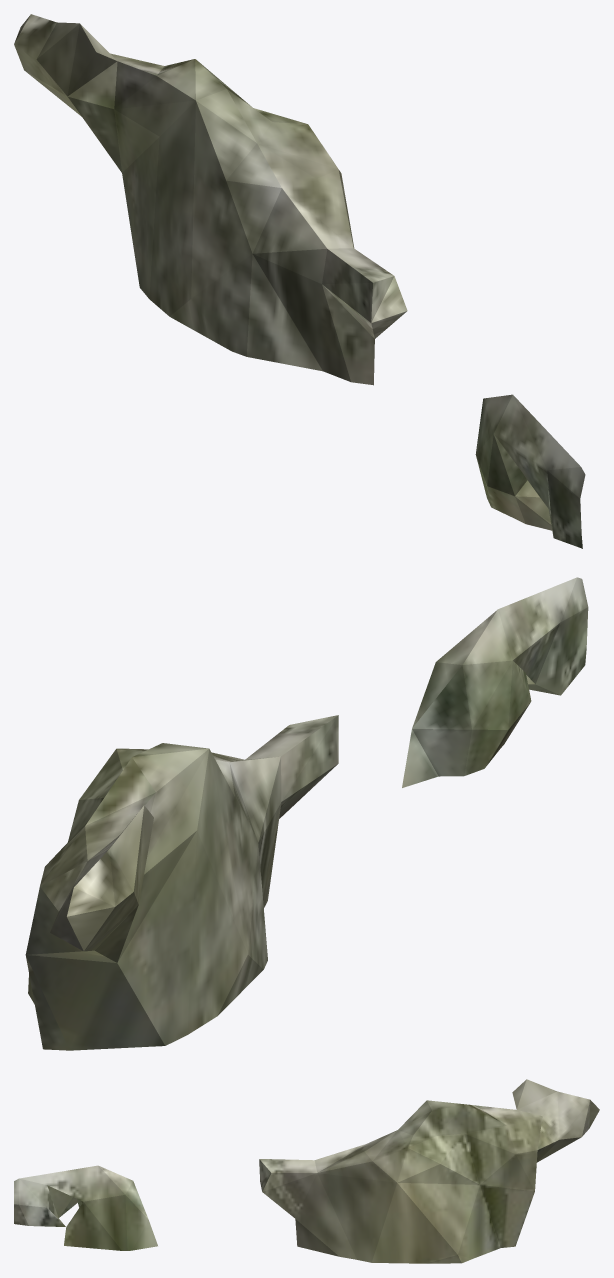
3 views of the same model, one above another, from view 1: azimuth 30°, elevation 25°; view 2: azimuth 150°, elevation 25°; view 3: azimuth 270°, elevation 25° (orthographic). The views are drawn at different scales.
Size of the model in its own units: 0.4545 by 0.5851 by 2.22.
1 material, 1 textured.
